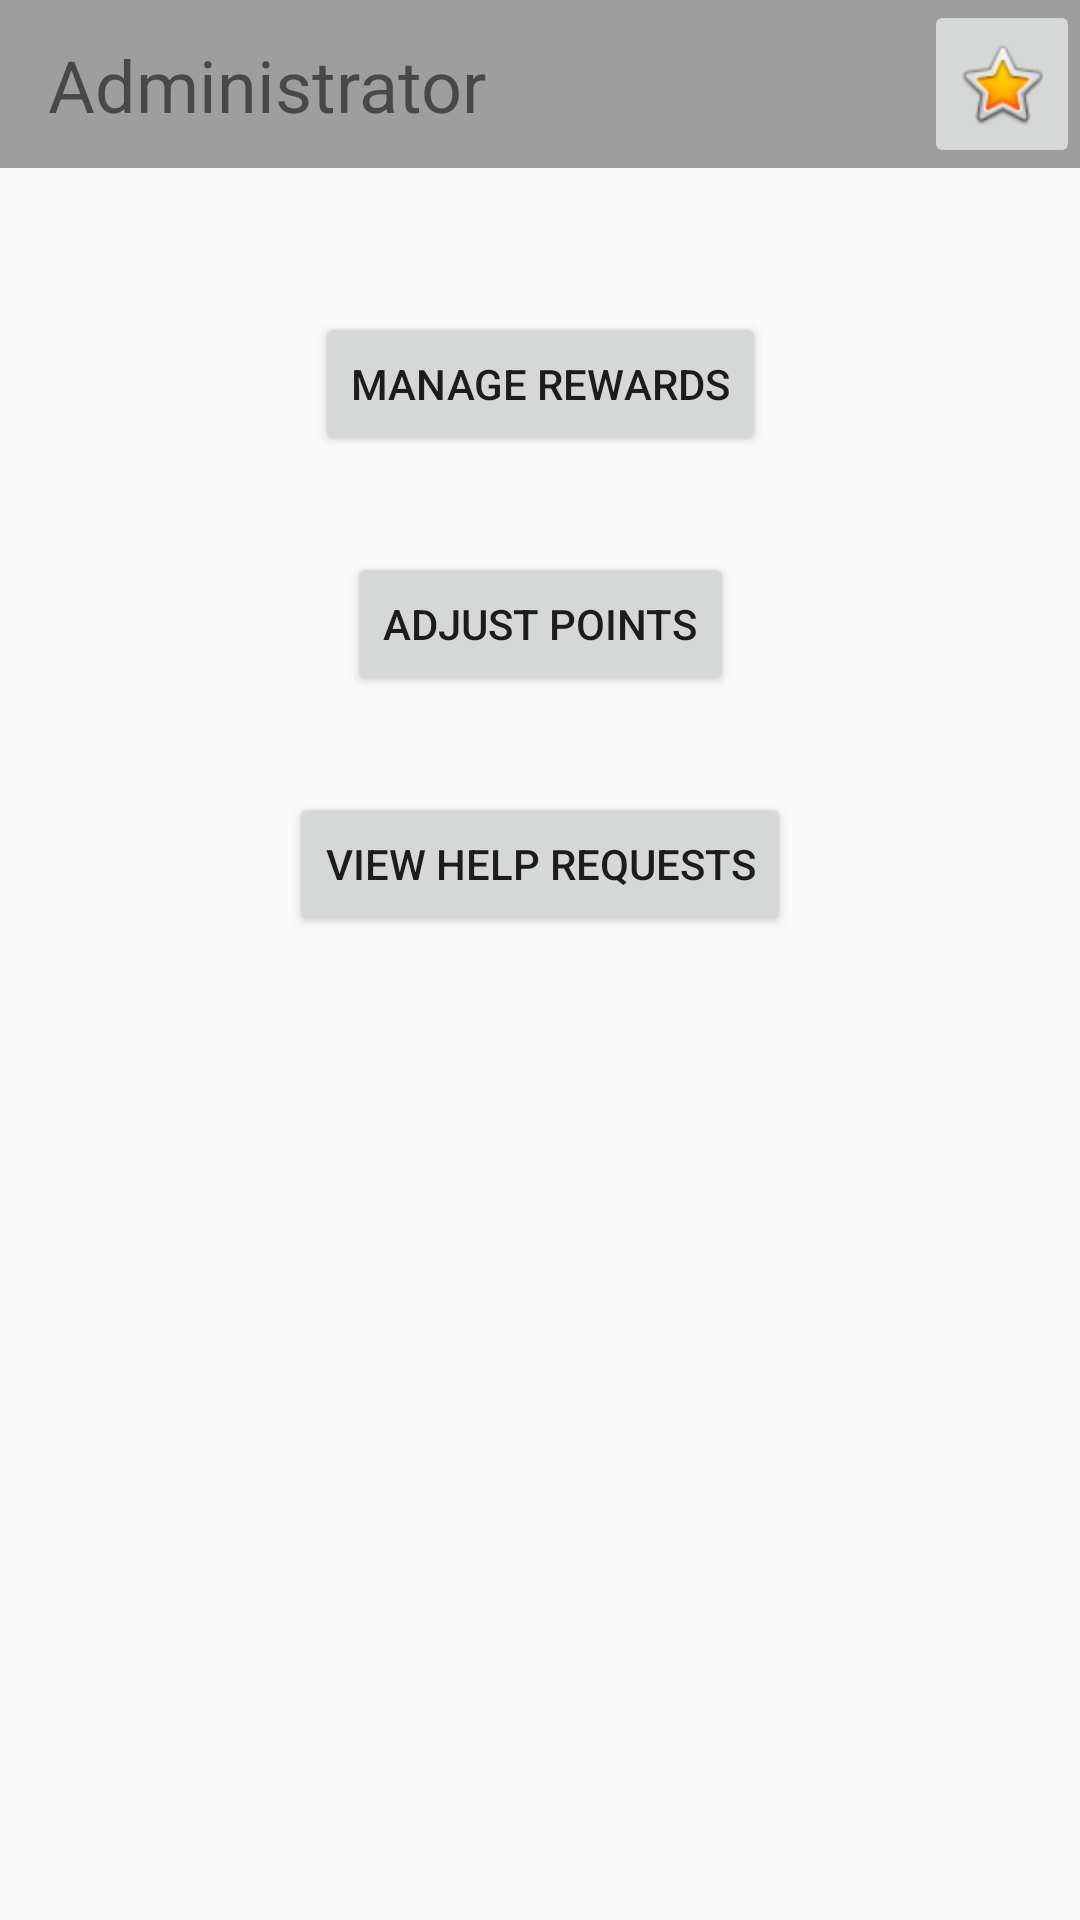

Where to tap for icons on this 1080w x 1920h app screen, as point (x, y):
star on: point (1002, 84)
